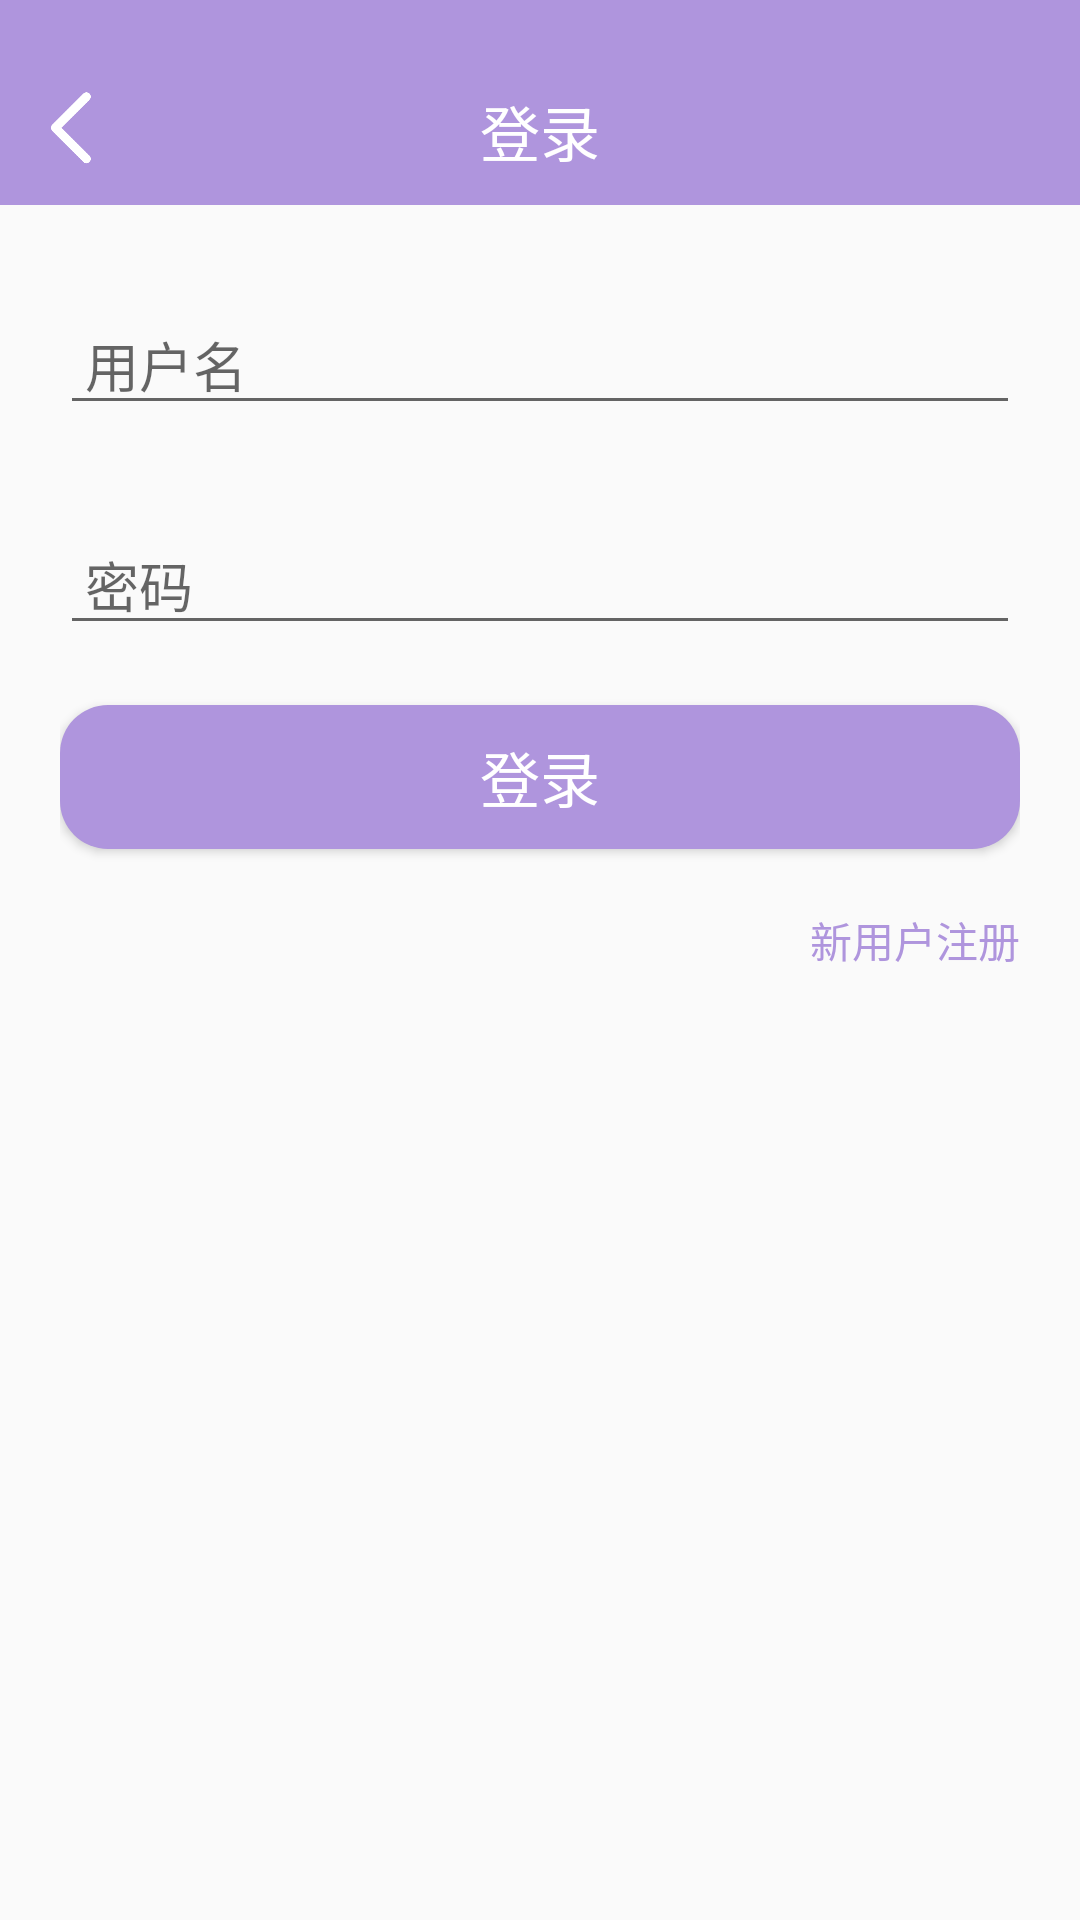

Locate icon controls on the screen. Image size 1080w x 1920h, boxes as (x1, y1, x2, y2).
back: (51, 92, 91, 163)
